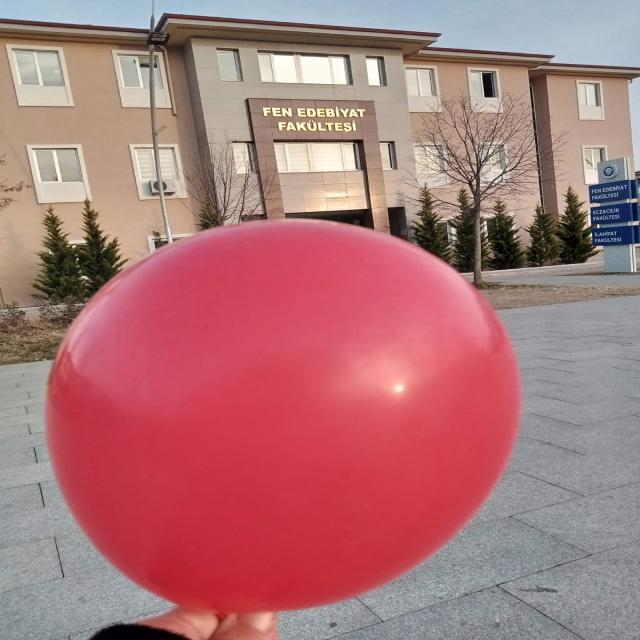balloon: (45, 220, 521, 640), (294, 306, 294, 310)
